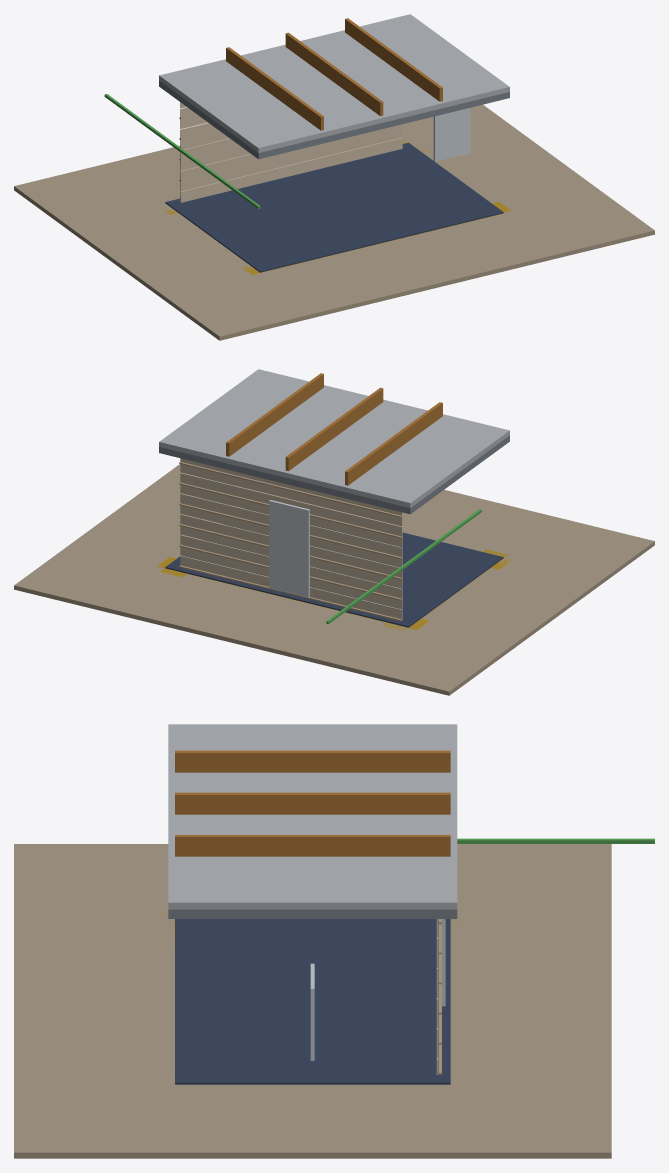
Rendered from stage_10_roof_covering.glb.
3 renders of one model, top to bottom at view 1: azimuth 30°, elevation 25°; view 2: azimuth 150°, elevation 25°; view 3: azimuth 270°, elevation 25°, orthographic. The views are drawn at different scales.
Visible parts, largest first — view 1: world; view 2: world; view 3: world.
Part boxes in pixels (x1,y1,x2,y2): world: [14, 14, 654, 340]; world: [14, 369, 654, 695]; world: [14, 724, 654, 1158].
Size of the model in its own units: 11 by 4.2 by 9.65.
